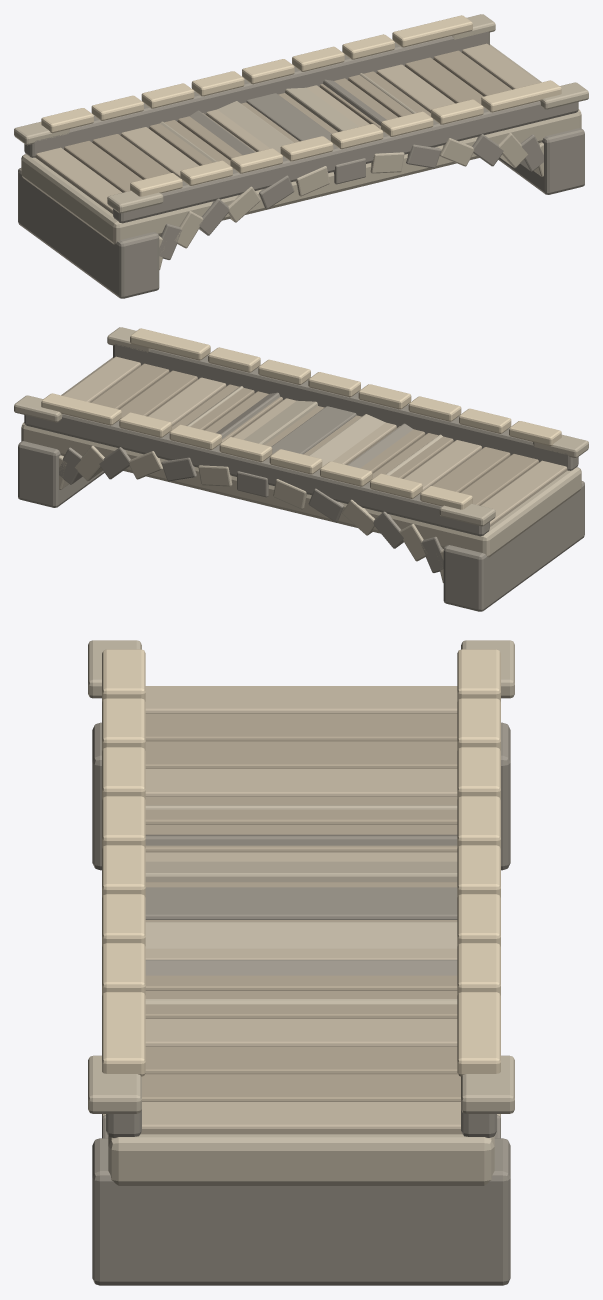
The model's file is stone_bridge.glb.
3 renders of one model, top to bottom at view 1: azimuth 30°, elevation 25°; view 2: azimuth 150°, elevation 25°; view 3: azimuth 270°, elevation 25°, orthographic. The views are drawn at different scales.
Parts seen in each view (by area): view 1: StoneBridge_Geometry; view 2: StoneBridge_Geometry; view 3: StoneBridge_Geometry.
Boxes of the visible parts, x1,y1,x2,y2 form: StoneBridge_Geometry: (14, 14, 588, 298); StoneBridge_Geometry: (14, 327, 588, 611); StoneBridge_Geometry: (88, 640, 514, 1285).
Bounding box in the file's own units: 8.44 × 1.78 × 3.32.
